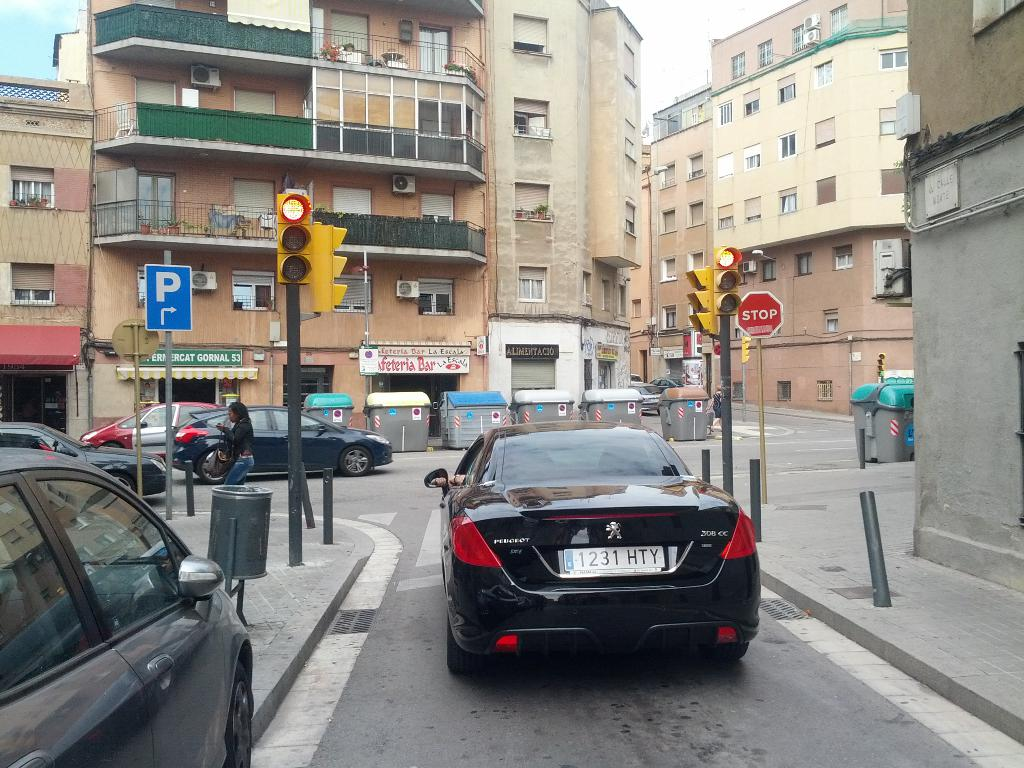license plate: (563, 545, 667, 575)
